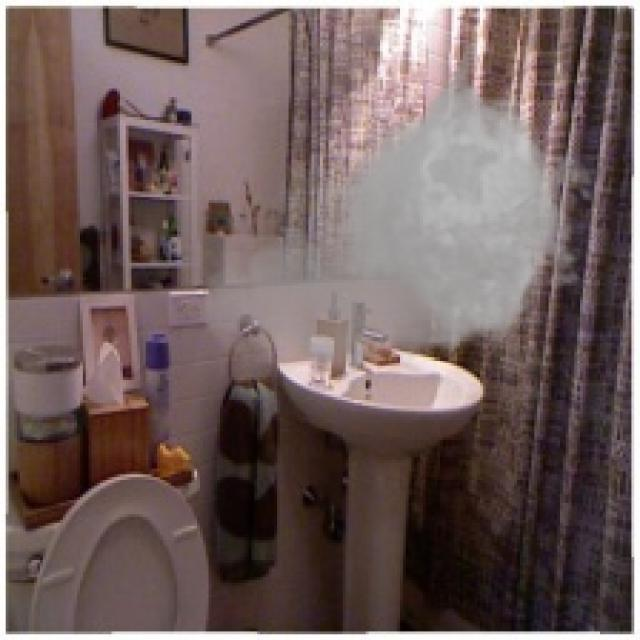Smoke: (194, 34, 609, 389)
